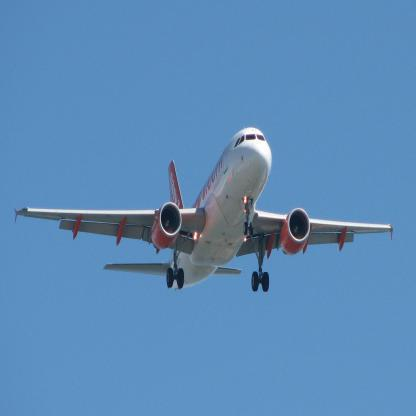CIV_Plane: (9, 123, 397, 301)
